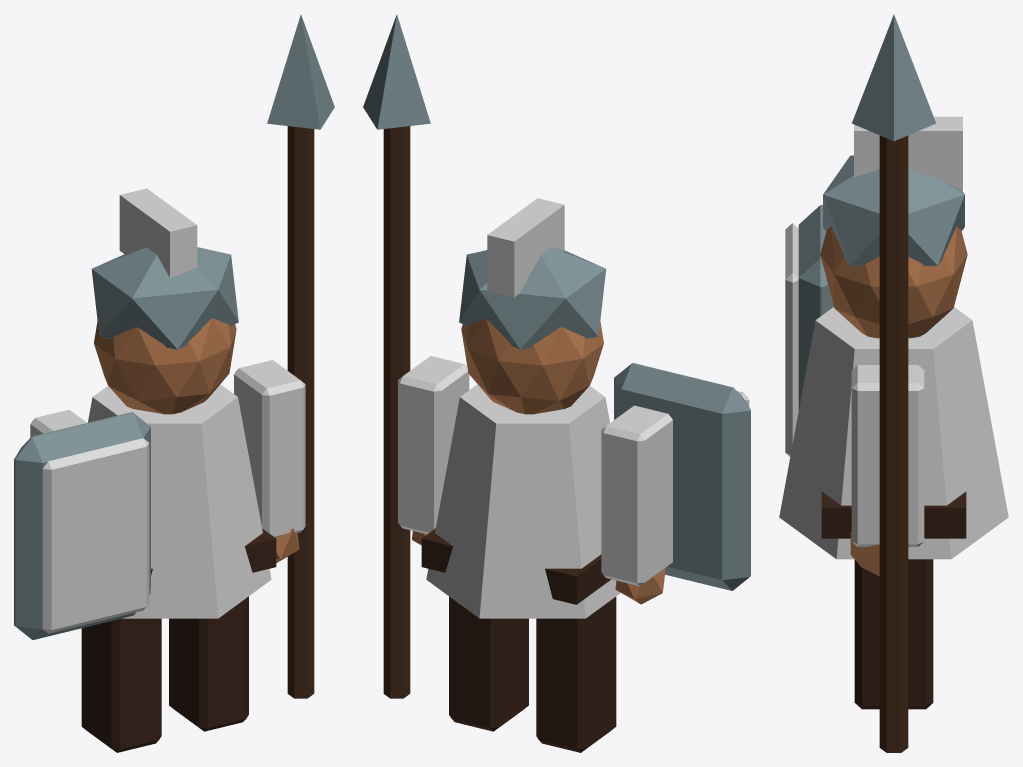
Rendered from soldier.glb.
The picture shows the model from 3 angles, left to right: view 1: azimuth 30°, elevation 25°; view 2: azimuth 150°, elevation 25°; view 3: azimuth 270°, elevation 25°; orthographic projection. The views are drawn at different scales.
Parts seen in each view (by area): view 1: soldier; view 2: soldier; view 3: soldier.
Boxes of the visible parts, <box> form: soldier: <box>14,14,334,752</box>; soldier: <box>363,14,750,752</box>; soldier: <box>779,14,1008,752</box>.
Bounding box in the file's own units: 0.365 × 0.67 × 0.19.
